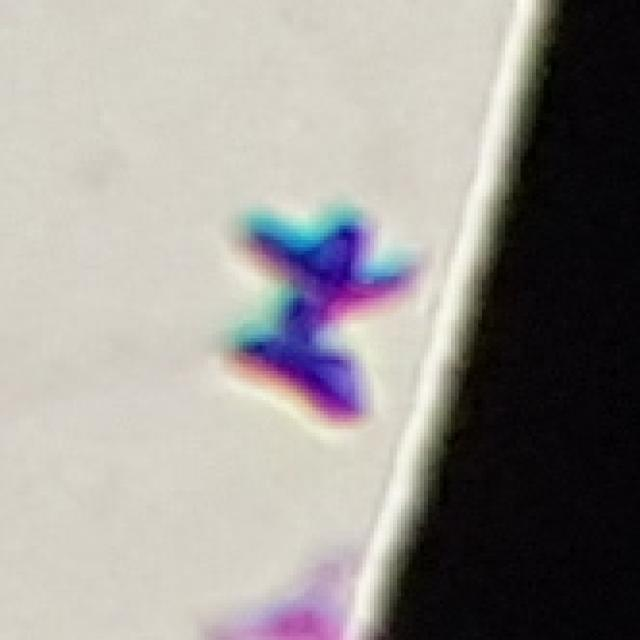non-sperm: (206, 110, 427, 458)
